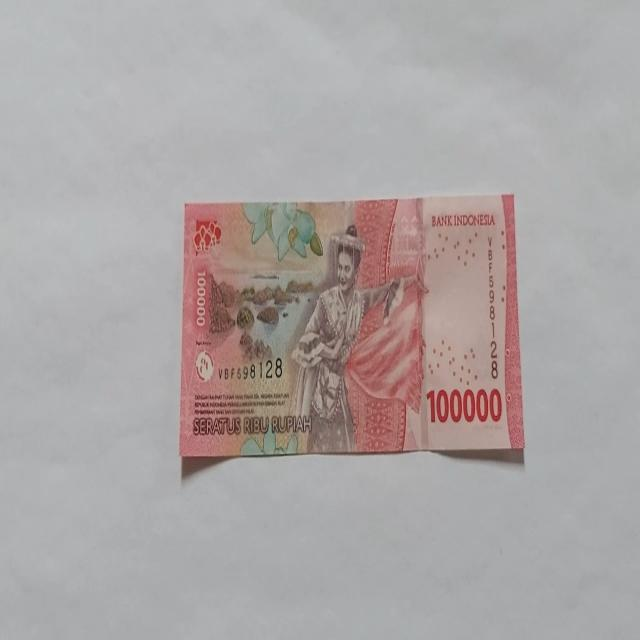seratus ribu rupiah: (178, 194, 525, 480), (288, 224, 404, 454)
